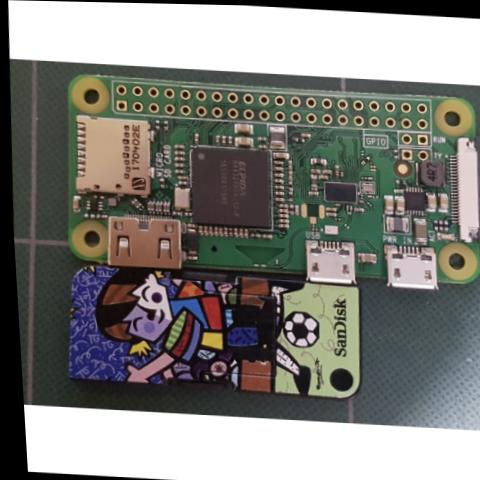Raspberry-Pi-Zero-W: (56, 71, 480, 292)
